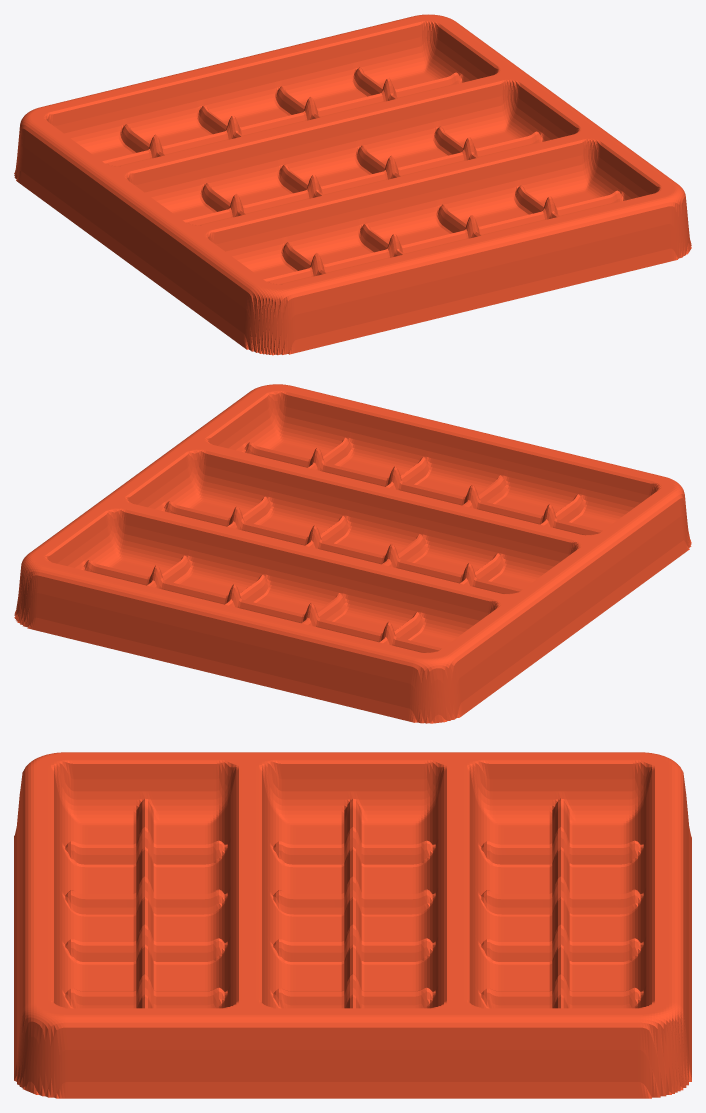
The model's file is mold.glb.
3 renders of one model, top to bottom at view 1: azimuth 30°, elevation 25°; view 2: azimuth 150°, elevation 25°; view 3: azimuth 270°, elevation 25°, orthographic. The views are drawn at different scales.
Visible parts, largest first — view 1: geometry_0; view 2: geometry_0; view 3: geometry_0.
Boxes of the visible parts, box(x1,y1,x2,y2) form: geometry_0: box(14, 14, 691, 355); geometry_0: box(14, 384, 691, 723); geometry_0: box(14, 752, 691, 1098).
Size of the model in its own units: 0.116 by 0.0145 by 0.119.
